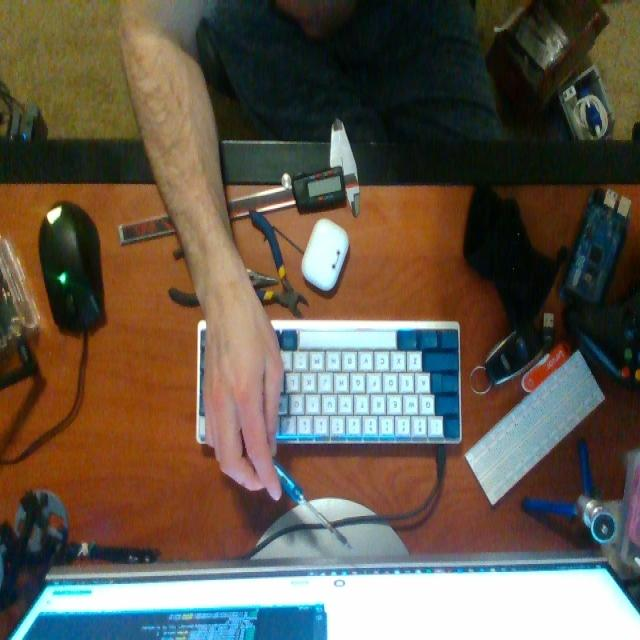keyboard-with-hands: (198, 323, 461, 440)
